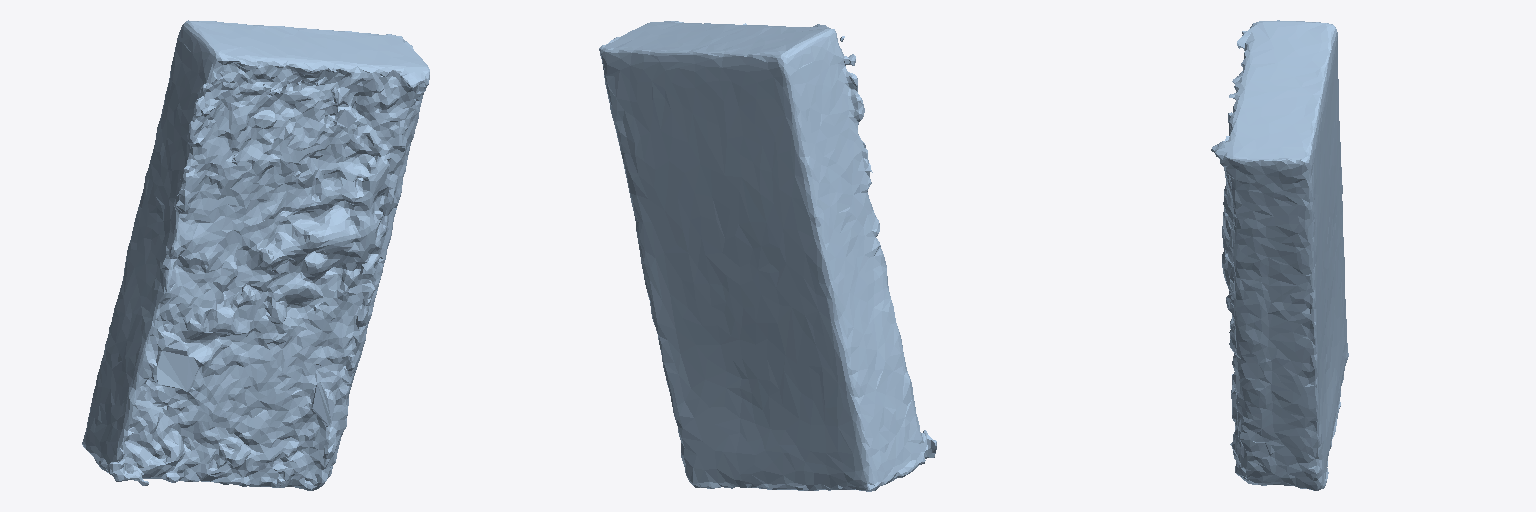
robot.urdf — boxtiny.urdf:
<?xml version="1.0" ?>
<robot name="boxtiny.urdf">
  <dynamics damping="0.5" friction="0.9"/>
  <link name="baseLink">
    <contact>
      <lateral_friction value="0.9"/>
      <rolling_friction value="0.5"/>
      <stiffness value="30000"/>
      <damping value="1000"/>
    </contact>
    <visual>
      <origin rpy="0 0 0" xyz="0 0 0"/>
      <geometry>
        <mesh filename="objects/boxtiny/boxtiny.obj" scale="1.0 1.0 1.0"/>
      </geometry>
       <material name="mat">
        <color rgba="0.7 0.8 0.9 1"/>
      </material>
    </visual>
    <collision>
      <origin rpy="0 0 0" xyz="0 0 0"/>
      <geometry>
         <mesh filename="objects/boxtiny/boxtiny.obj" scale="1.0 1.0 1.0"/>
      </geometry>
    </collision>
  </link>
</robot>

--- What the picture shows (computed from the rendered views, not written in the file) ---
Views: 3 orthographic renders of the robot side by side, from view 1: azimuth 30°, elevation 25°; view 2: azimuth 150°, elevation 25°; view 3: azimuth 270°, elevation 25°.
Robot: boxtiny.urdf — 1 links, 0 joints (none); root link baseLink; default pose: all joints at 0.
Links seen in each view (by area): view 1: baseLink; view 2: baseLink; view 3: baseLink.
Boxes of the visible links, <box> form: baseLink: <box>82,20,429,490</box>; baseLink: <box>599,21,936,491</box>; baseLink: <box>1211,20,1348,490</box>.
Size in the robot's own frame: 0.2306 by 0.0952 by 0.3229 metres.
Meshes: 1 distinct files referenced, 1 mesh visuals loaded (1 OBJ).
